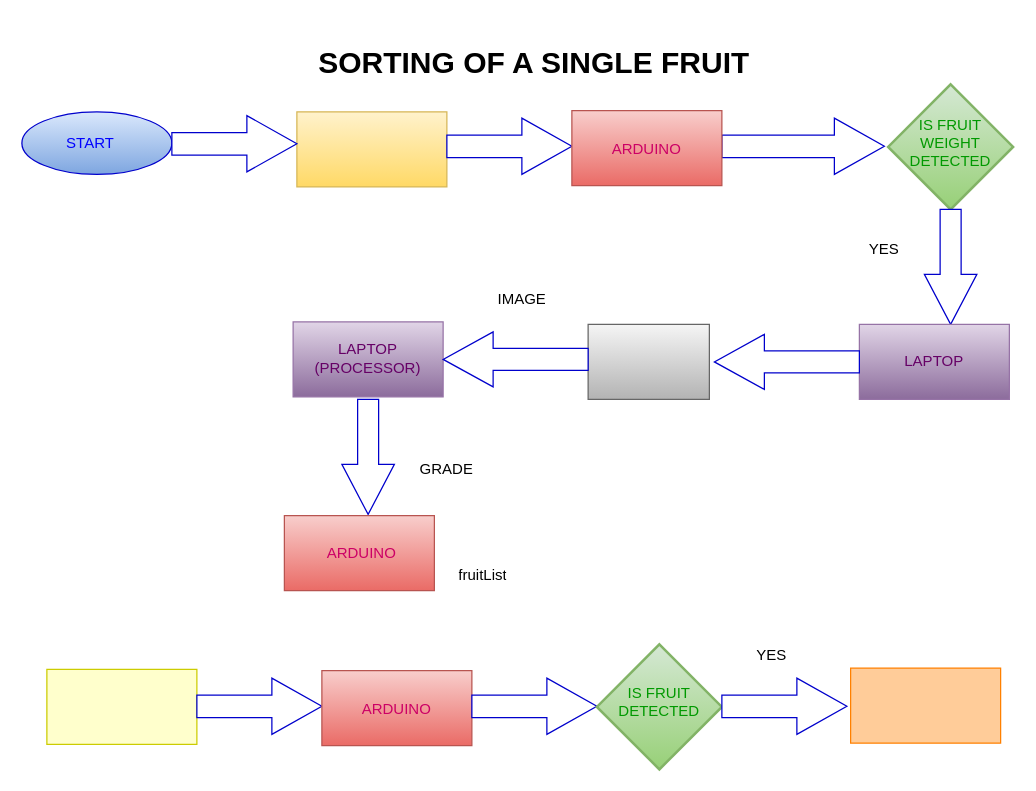
The diagram is 1036 pixels wide and 791 high, and some of its shapes have lost their labels. The shapes that lost their labels are listed below. From the top down, each one's centre as x and y in pixels, then its label:
At (371,149): "WEIGHING MACHINE".
At (648,361): "IMAGING DEVICE".
At (121,706): "OPTICAL PROXIMITY SWITCH".
At (925,705): "BASKET SOLINOID".
